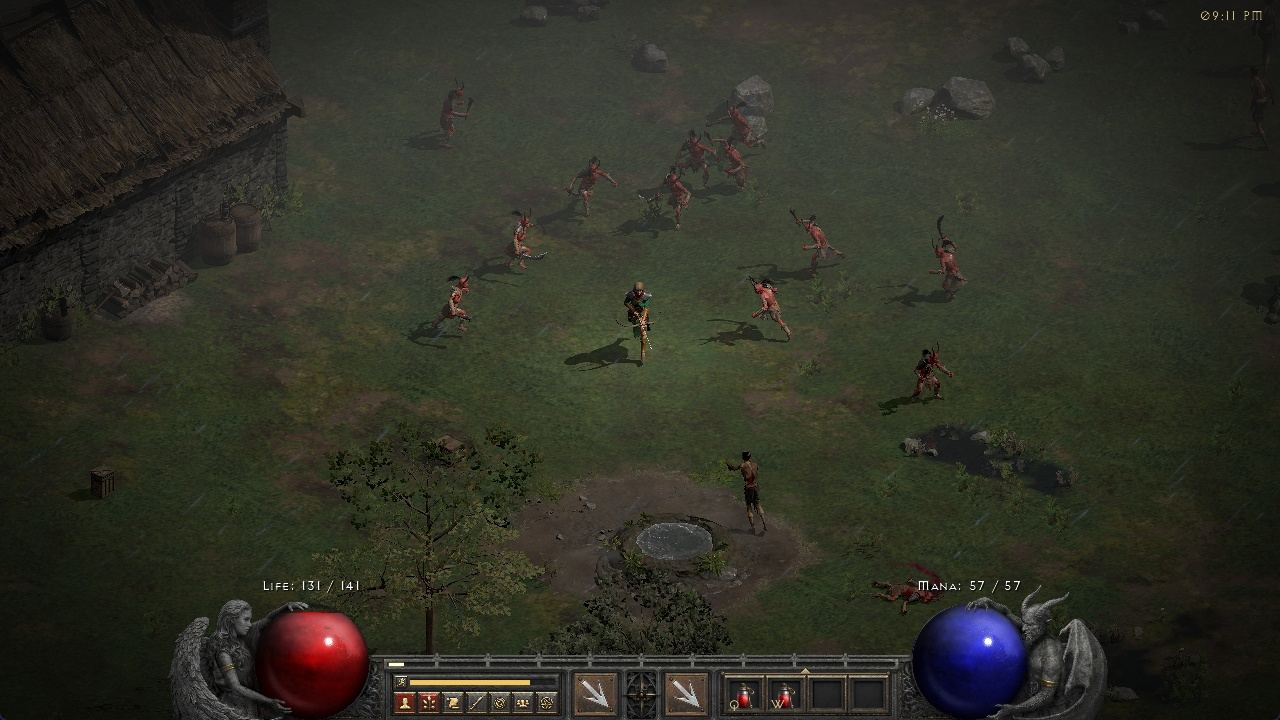fallen: (426, 271, 491, 346), (745, 274, 799, 351), (783, 210, 851, 269), (926, 219, 977, 297), (561, 153, 620, 217), (431, 79, 479, 154), (910, 341, 963, 405), (501, 209, 545, 276), (717, 138, 765, 194), (653, 171, 701, 226), (672, 135, 714, 175), (721, 105, 756, 139)
